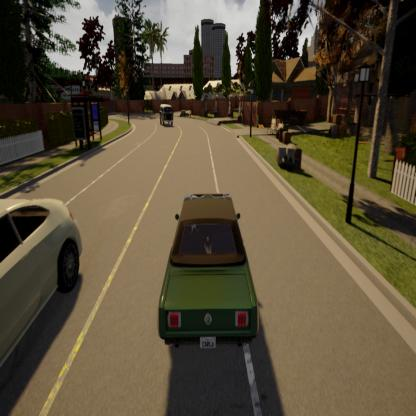Cars: (153, 165, 268, 364), (0, 175, 91, 416), (152, 95, 175, 133)
